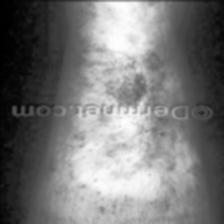Unclassified: (64, 120, 184, 184), (78, 35, 154, 100)
